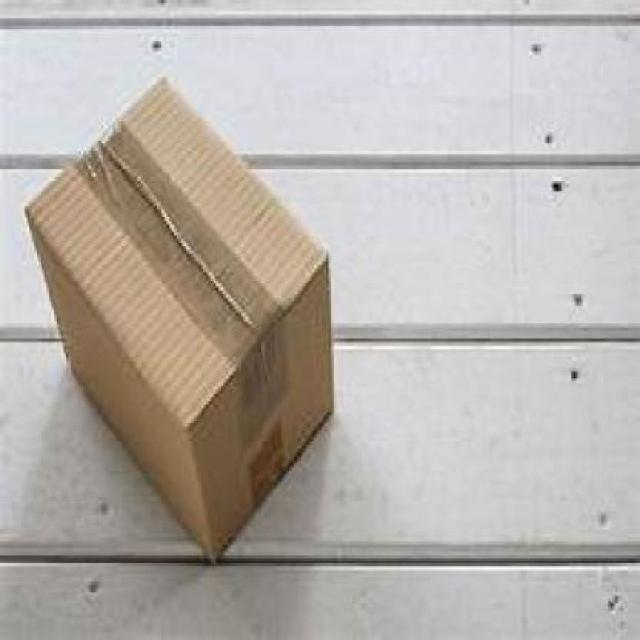cardboxes: (23, 71, 335, 568)
